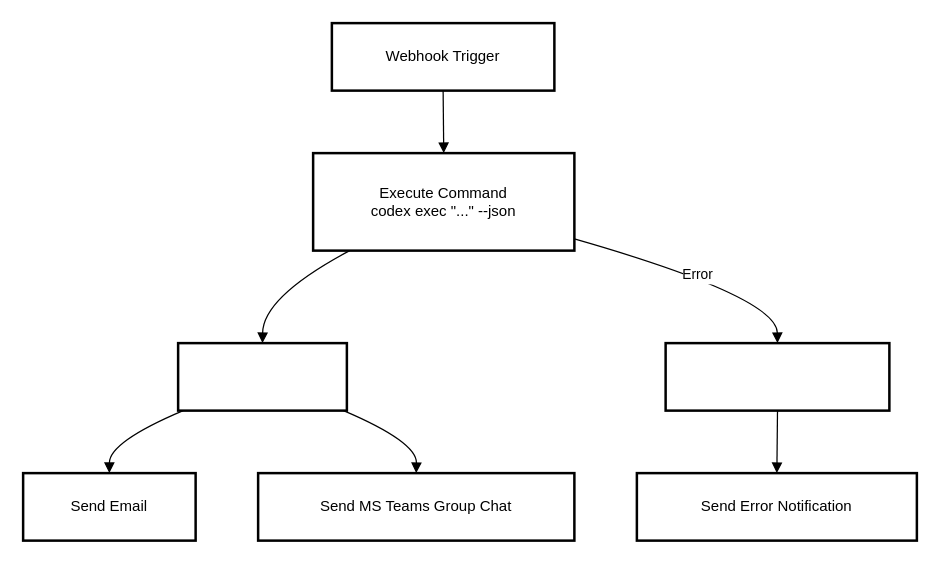
Image size: 939x563. Some labels were removed from this diagram. The shapes that lost their labels are listed below. From the top down, each one's centre as x and y in pixels, then its label:
(x=262, y=376): Edit Fields
(x=777, y=376): Execution Failed
